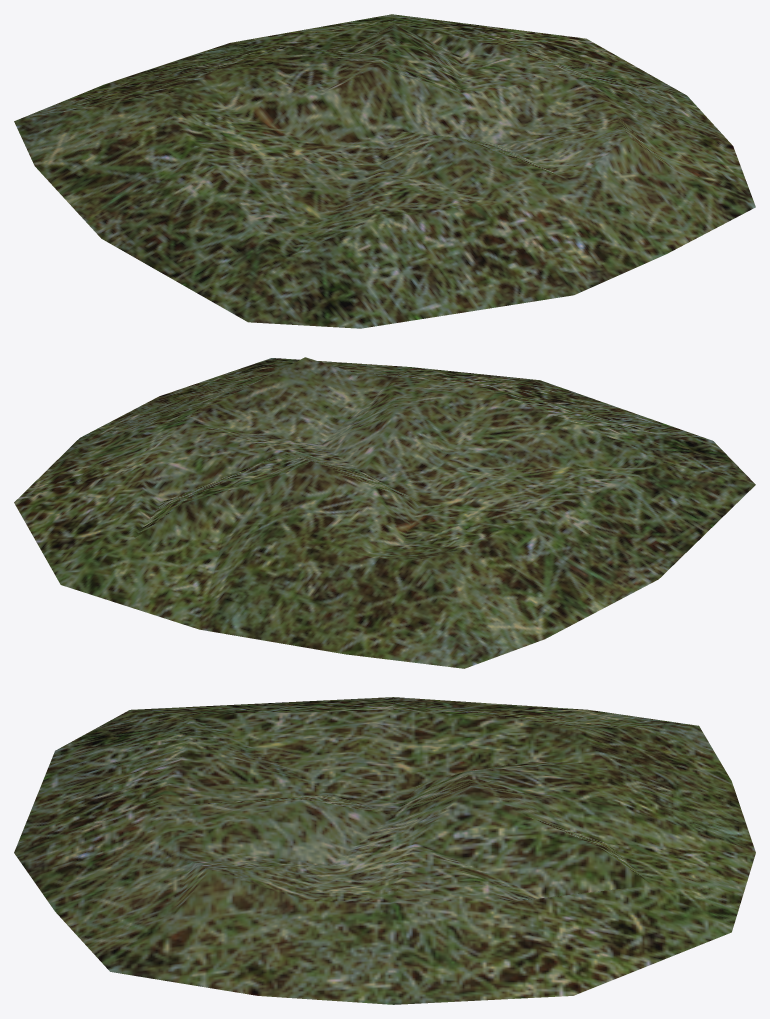
Rendered from grass_patch.dae.
The picture shows the model from 3 angles, top to bottom: view 1: azimuth 30°, elevation 25°; view 2: azimuth 150°, elevation 25°; view 3: azimuth 270°, elevation 25°; orthographic projection. The views are drawn at different scales.
Visible parts, largest first — view 1: cellarbase_floor_dirt_pile; view 2: cellarbase_floor_dirt_pile; view 3: cellarbase_floor_dirt_pile.
Part boxes in pixels (bbox=[...]): cellarbase_floor_dirt_pile: bbox=[14, 14, 755, 328]; cellarbase_floor_dirt_pile: bbox=[14, 357, 755, 668]; cellarbase_floor_dirt_pile: bbox=[14, 697, 755, 1004].
Size of the model in its own units: 2.15 by 0.2406 by 2.19.
1 material, 1 textured.
